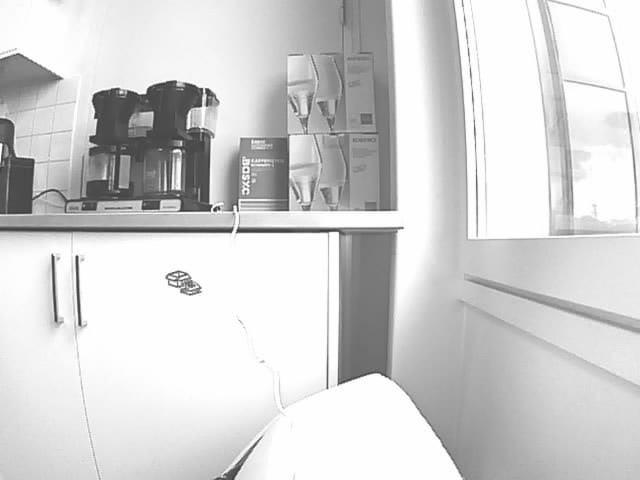not empty coffee: (83, 144, 141, 201)
